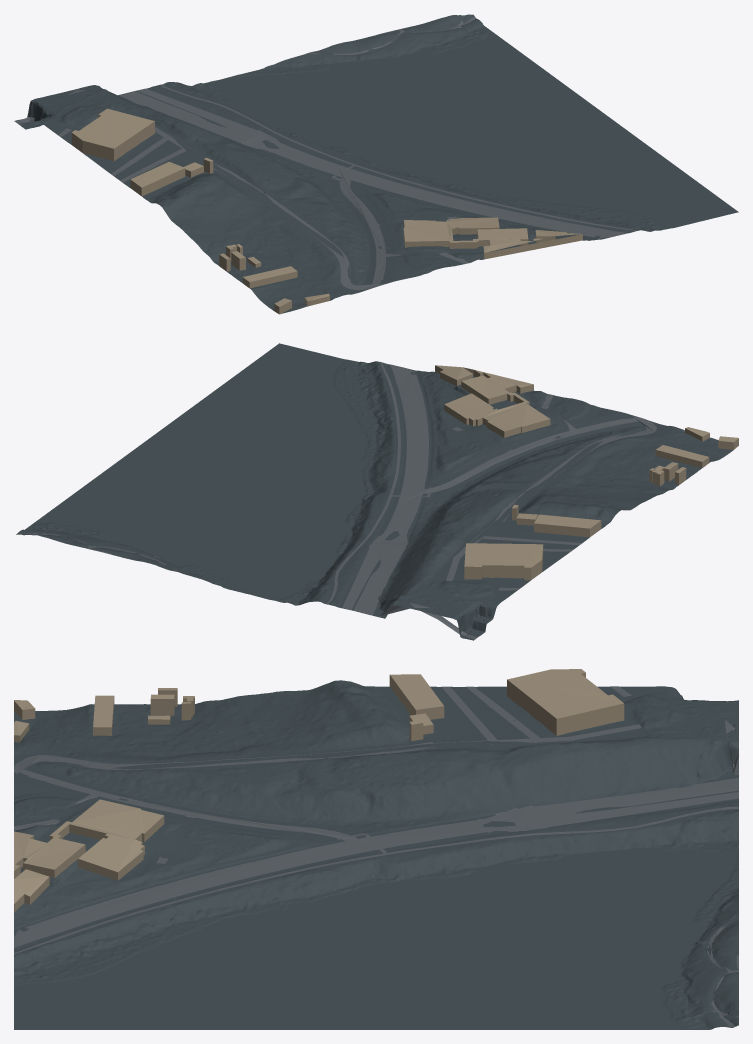
Rendered from epsg26910-1416-10874.lod0.glb.
3 views of the same model, one above another, from view 1: azimuth 30°, elevation 25°; view 2: azimuth 150°, elevation 25°; view 3: azimuth 270°, elevation 25° (orthographic). The views are drawn at different scales.
Visible parts, largest first — view 1: epsg26910-1416-10874-lod0; view 2: epsg26910-1416-10874-lod0; view 3: epsg26910-1416-10874-lod0.
Part boxes in pixels (left/top/right/bottom): epsg26910-1416-10874-lod0: left=14, top=14, right=738, bottom=314; epsg26910-1416-10874-lod0: left=16, top=343, right=738, bottom=640; epsg26910-1416-10874-lod0: left=14, top=669, right=738, bottom=1029.
Size of the model in its own units: 384 by 31.81 by 384.
